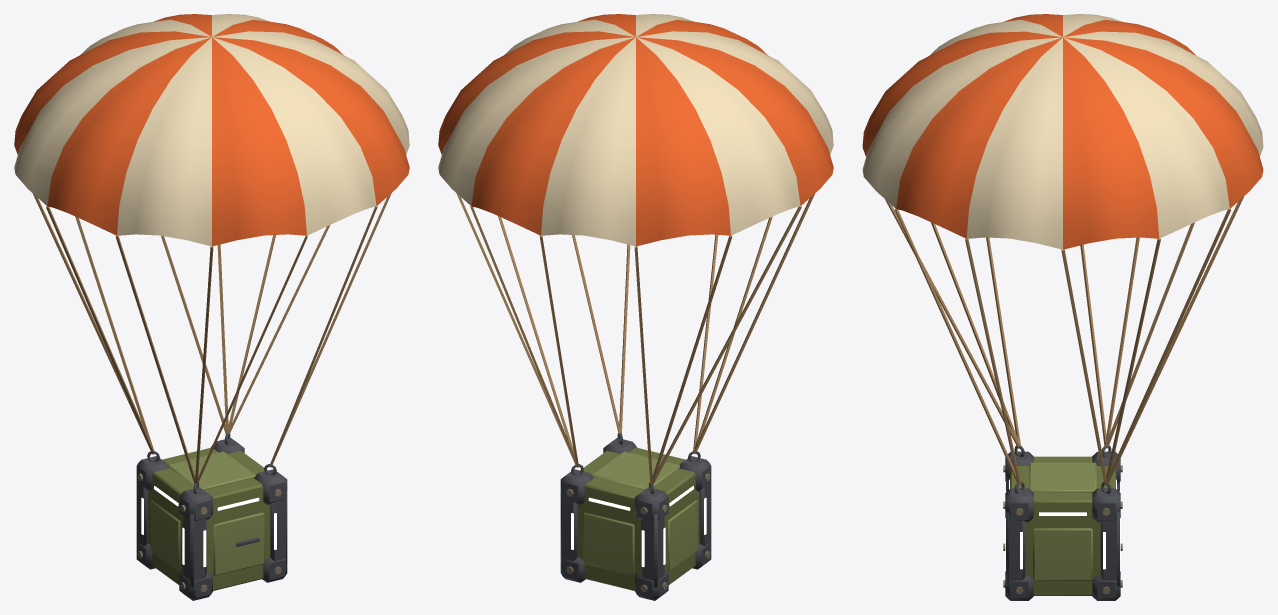
The model's file is supply_drop.glb.
3 views of the same model, side by side, from view 1: azimuth 30°, elevation 25°; view 2: azimuth 150°, elevation 25°; view 3: azimuth 270°, elevation 25° (orthographic).
Visible parts, largest first — view 1: supply_parachute, supply_crate; view 2: supply_parachute, supply_crate; view 3: supply_parachute, supply_crate.
Part boxes in pixels (left/top/right/bottom): supply_parachute: left=14, top=14, right=409, bottom=484; supply_crate: left=136, top=433, right=287, bottom=600; supply_parachute: left=438, top=14, right=833, bottom=484; supply_crate: left=560, top=433, right=711, bottom=600; supply_parachute: left=862, top=14, right=1263, bottom=485; supply_crate: left=1003, top=445, right=1122, bottom=600.
Size of the model in its own units: 4.16 by 6.2 by 4.16.
